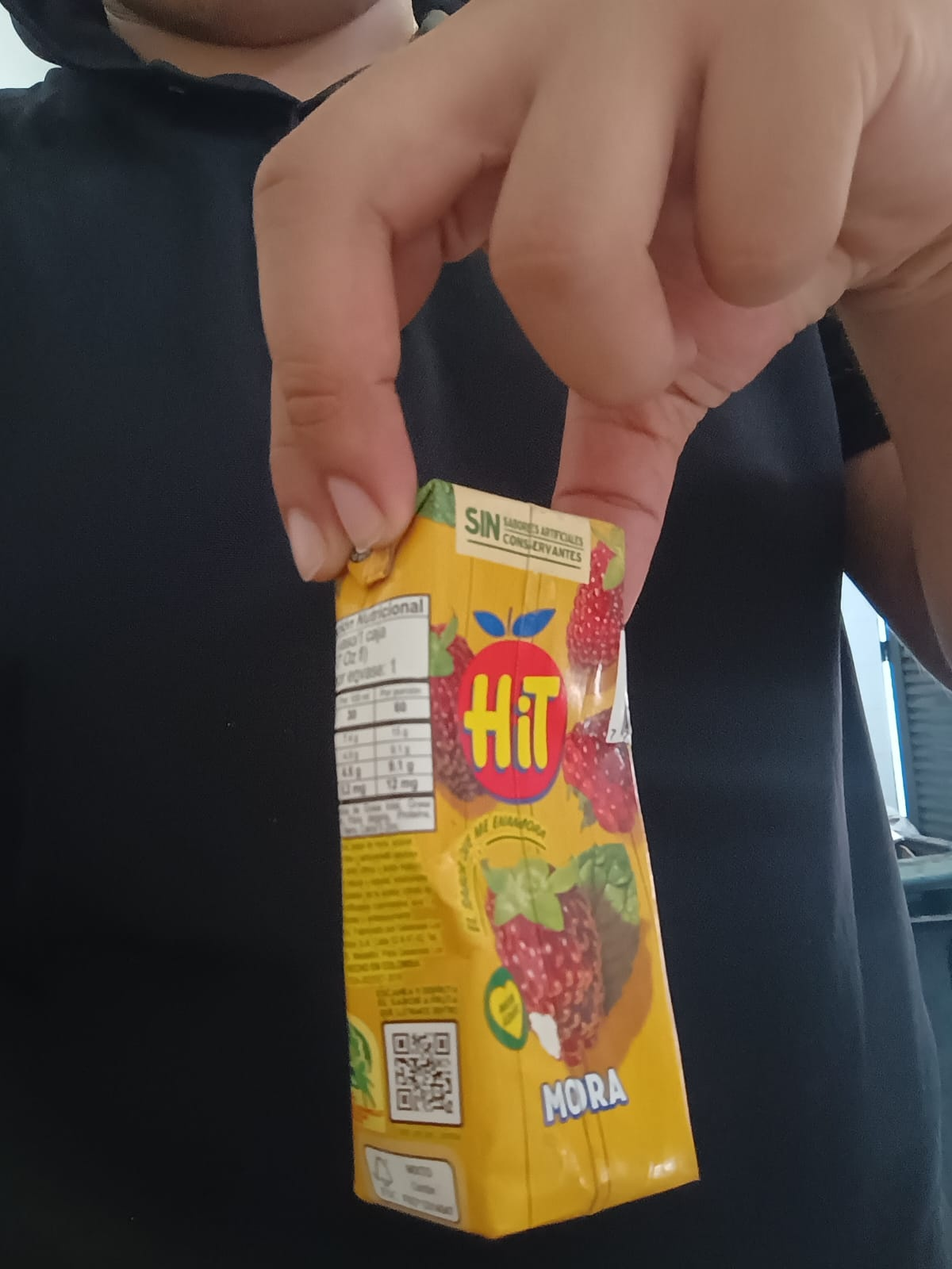Carton: (333, 480, 703, 1244)
